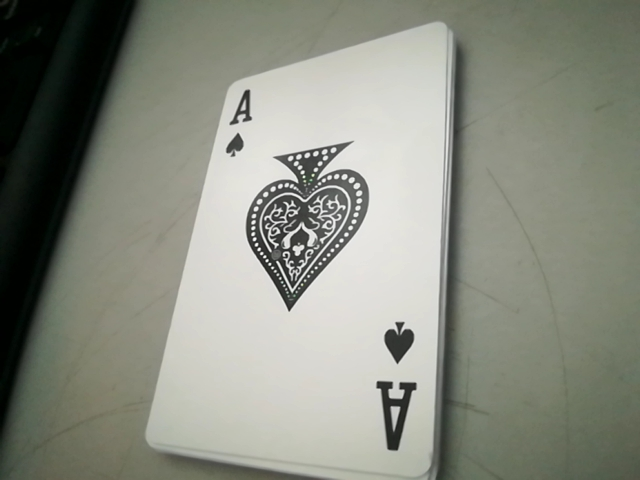ht a: (211, 88, 255, 170)
